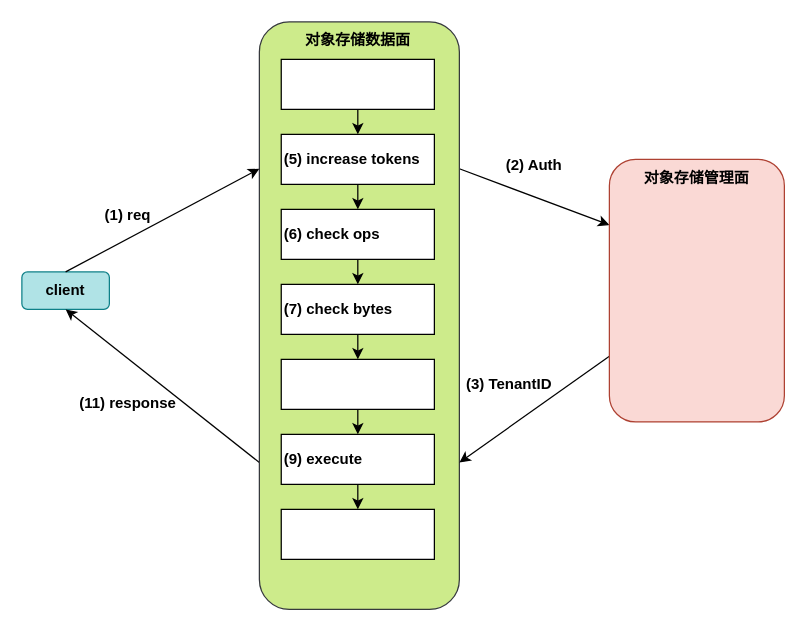
This 806x631 diagram has some shape labels left out. The centre of each missing label's shape, as x and y in pixels:
"(10) bytes token -N" goes at (x=357, y=533).
"(4) get qos info" goes at (x=357, y=83).
"(8) op tokens -1" goes at (x=357, y=383).
